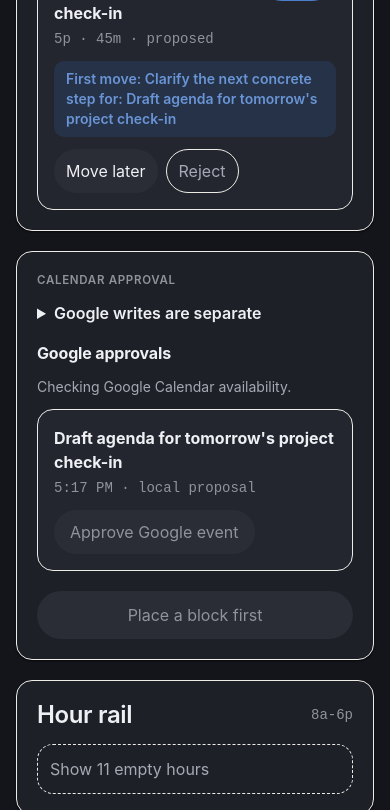
cockpit plan flow › collapses empty hour rows behind a 'show empty hours' disclosure until toggled
This screenshot has width=390, height=810.
(page scrolled)
Click the button with test id "show-empty-hours-toggle".
click(195, 769)  # box [37, 744, 353, 794]
(page scrolled)
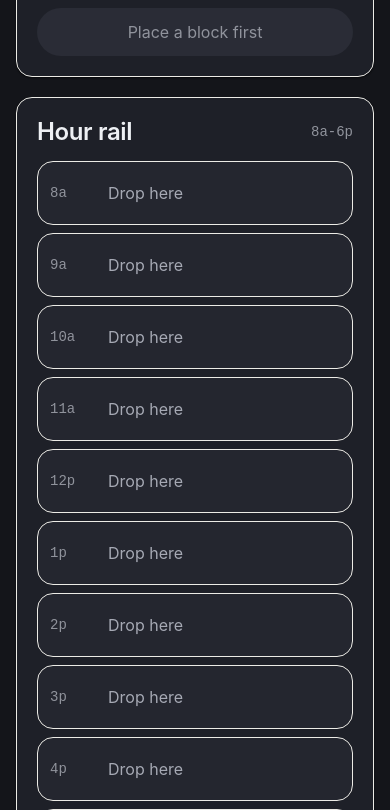
Check: the button with test id "show-empty-hours-toggle" is gone
